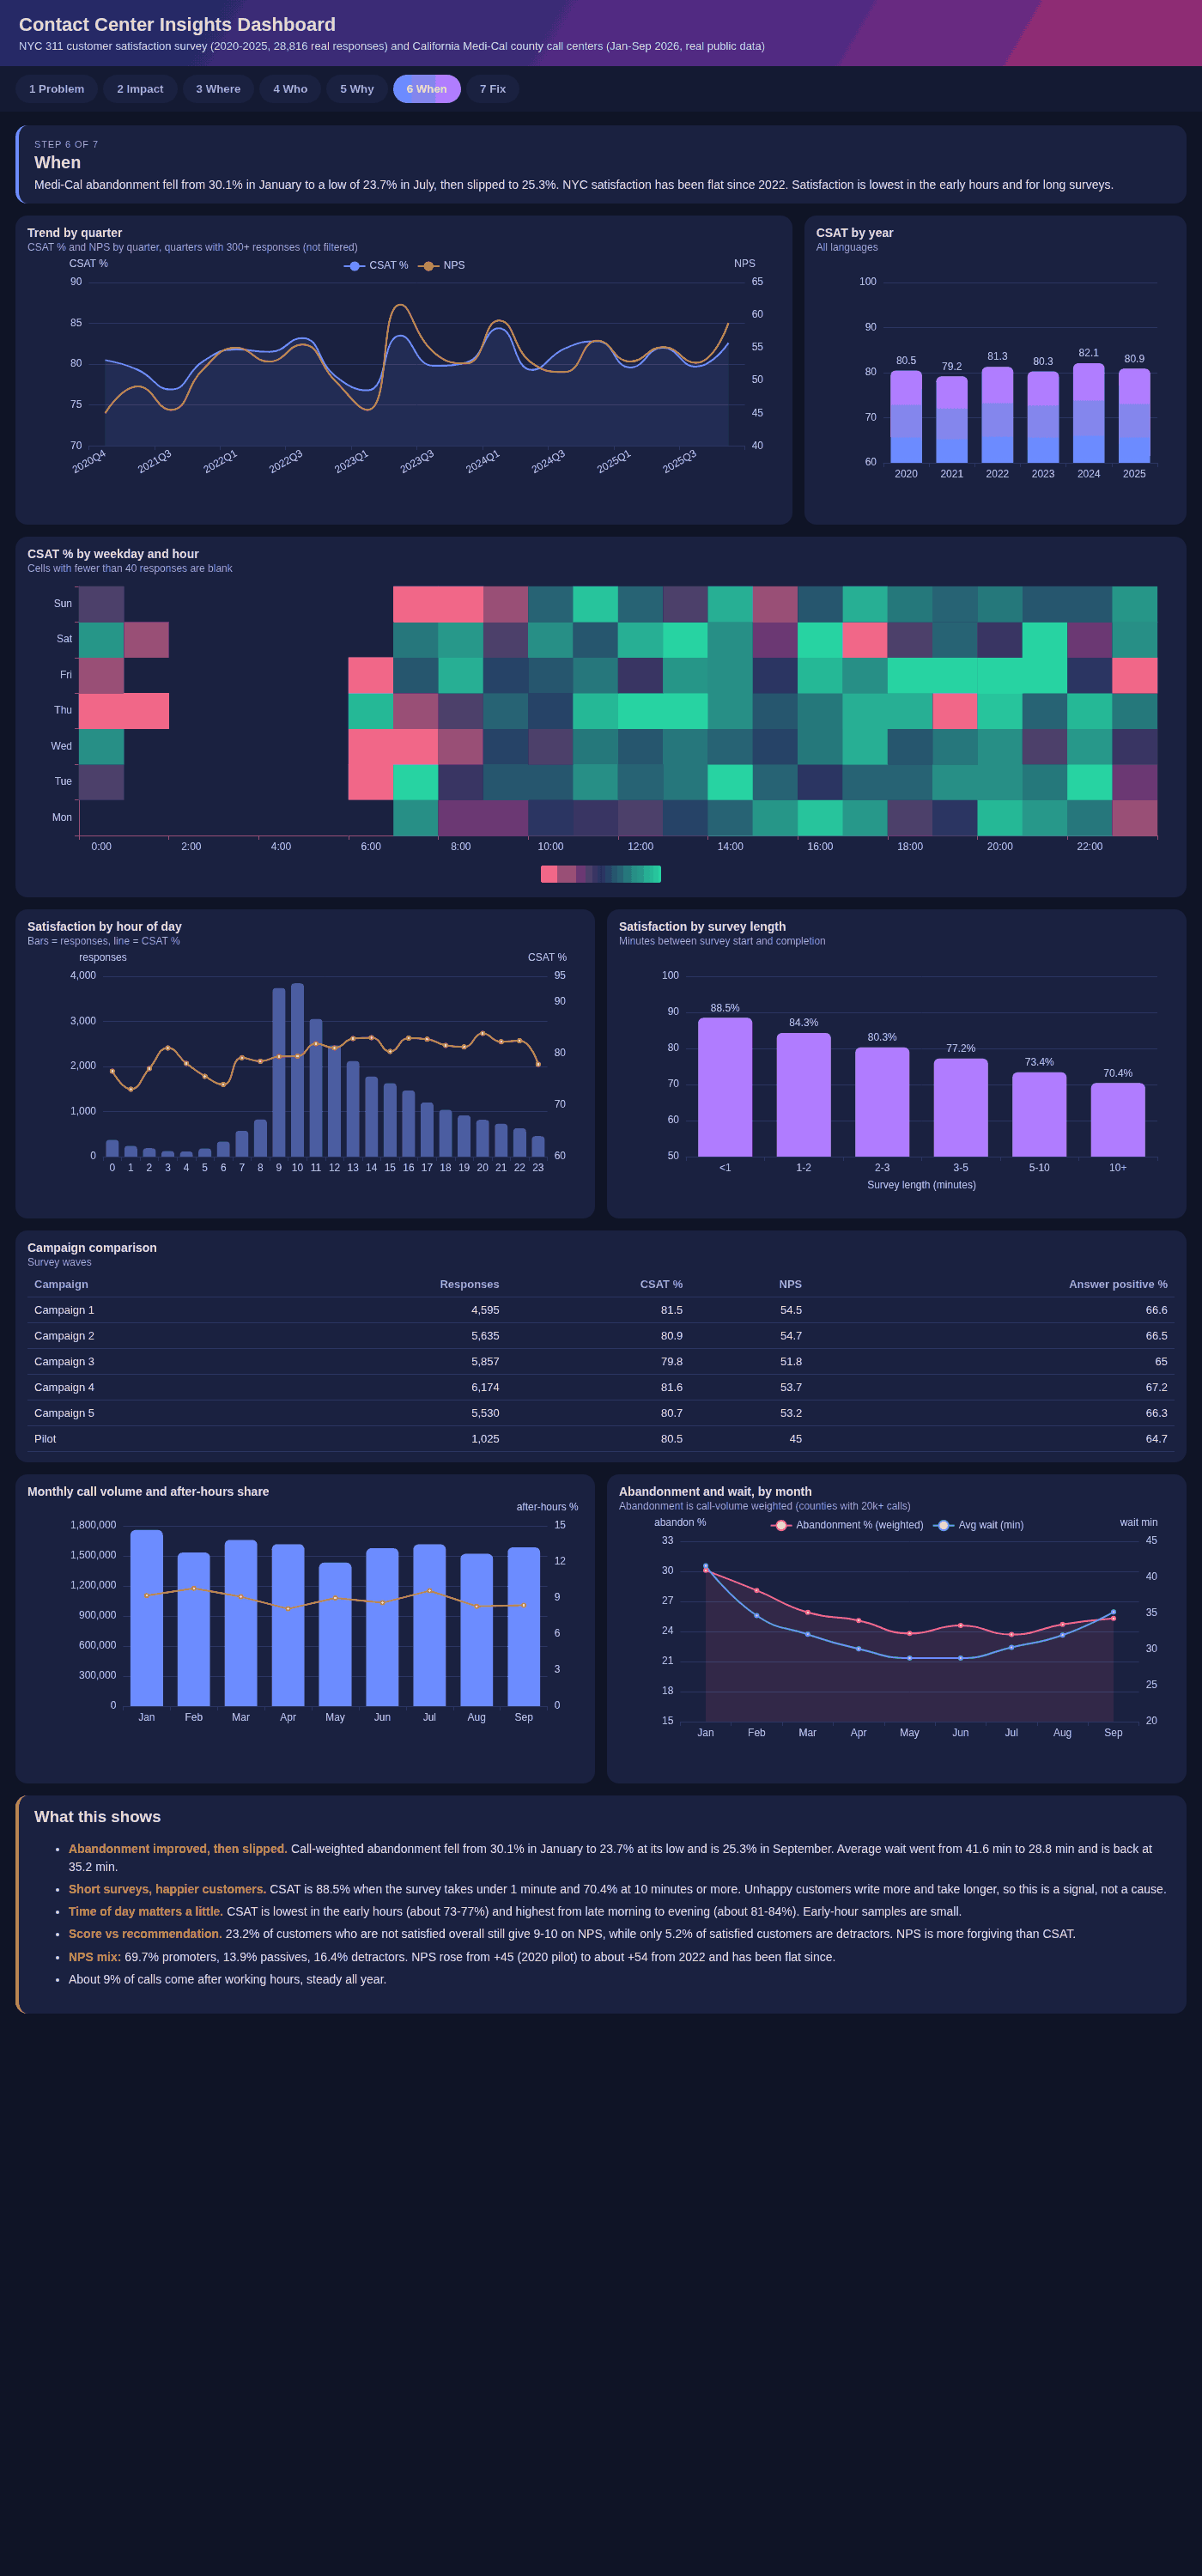

What the dashboard file says about the page in this screenshot:
{"tool":"powerbi","page":{"name":"6 When","canvas":[1280,720],"ordinal":5},"visuals":[{"type":"card","fields":{"Values":["Survey.Text S6"]},"box":[20,10,1240,80],"z":0},{"type":"clusteredColumnChart","fields":{"Category":["Survey.Year"],"Y":["Survey.CSAT %"]},"box":[20,100,400,300],"z":1000},{"type":"clusteredColumnChart","fields":{"Category":["Survey.Year"],"Y":["Survey.NPS Score"]},"box":[440,100,400,300],"z":2000},{"type":"clusteredColumnChart","fields":{"Category":["Survey.Hour"],"Y":["Survey.CSAT %"]},"box":[860,100,400,300],"z":3000},{"type":"clusteredColumnChart","fields":{"Category":["MediCal.Period"],"Y":["MediCal.Total Calls Sum"]},"box":[20,420,400,290],"z":4000},{"type":"clusteredColumnChart","fields":{"Category":["MediCal.Period"],"Y":["MediCal.Avg Abandon %"]},"box":[440,420,400,290],"z":5000},{"type":"clusteredColumnChart","fields":{"Category":["MediCal.Period"],"Y":["MediCal.Avg Wait Min"]},"box":[860,420,400,290],"z":6000}]}

Visuals, with their boxes on the page's 1280x720 design canvas (x1, y1, x2, y2). These are canvas units, not pixel positions in the 1202x2576 screenshot, which may show the page scaled, cropped or inside an application window:
card - Survey.Text S6: <region>20, 10, 1260, 90</region>
clusteredColumnChart - Survey.Year x Survey.CSAT %: <region>20, 100, 420, 400</region>
clusteredColumnChart - Survey.Year x Survey.NPS Score: <region>440, 100, 840, 400</region>
clusteredColumnChart - Survey.Hour x Survey.CSAT %: <region>860, 100, 1260, 400</region>
clusteredColumnChart - MediCal.Period x MediCal.Total Calls Sum: <region>20, 420, 420, 710</region>
clusteredColumnChart - MediCal.Period x MediCal.Avg Abandon %: <region>440, 420, 840, 710</region>
clusteredColumnChart - MediCal.Period x MediCal.Avg Wait Min: <region>860, 420, 1260, 710</region>
